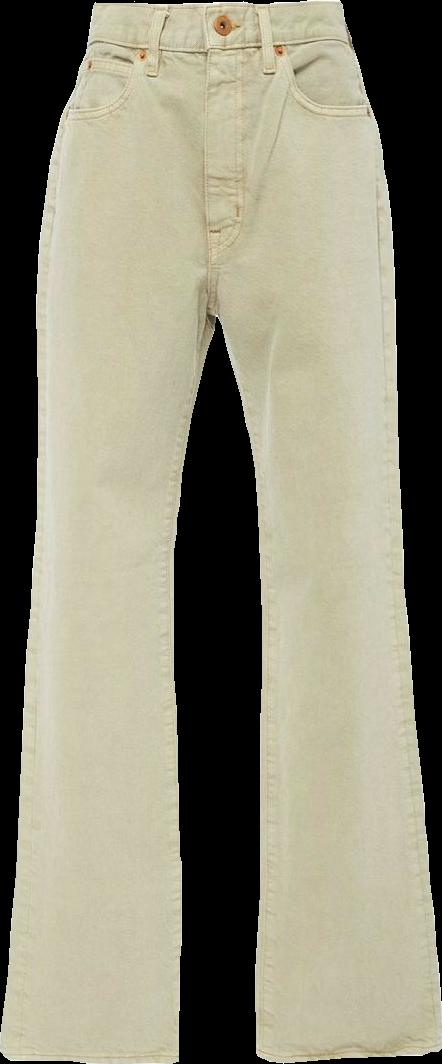Hemline: (255, 1044, 441, 1063), (0, 1047, 180, 1063)
Pantleg: (201, 0, 441, 1061), (0, 2, 218, 1063)
Waistline: (83, 27, 350, 56), (89, 0, 340, 15)
